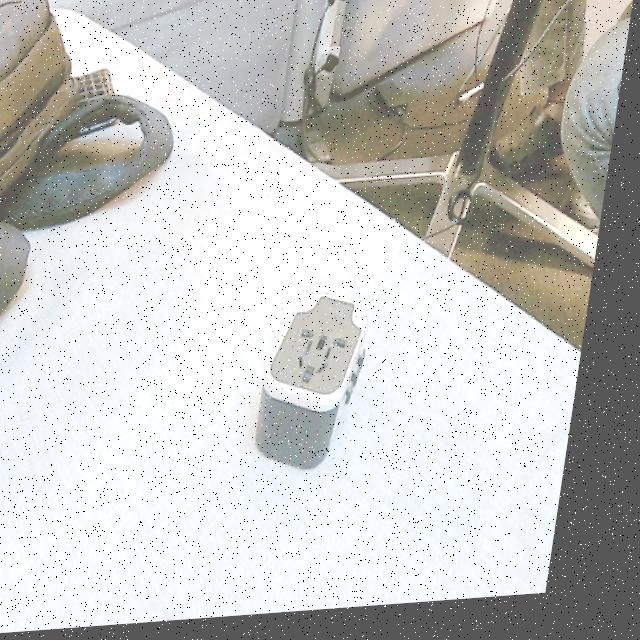adapter: (263, 292, 386, 478)
